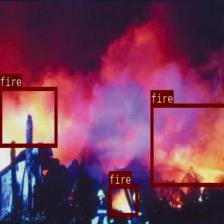fire: (150, 103, 224, 185), (0, 86, 57, 146), (108, 184, 137, 216)
